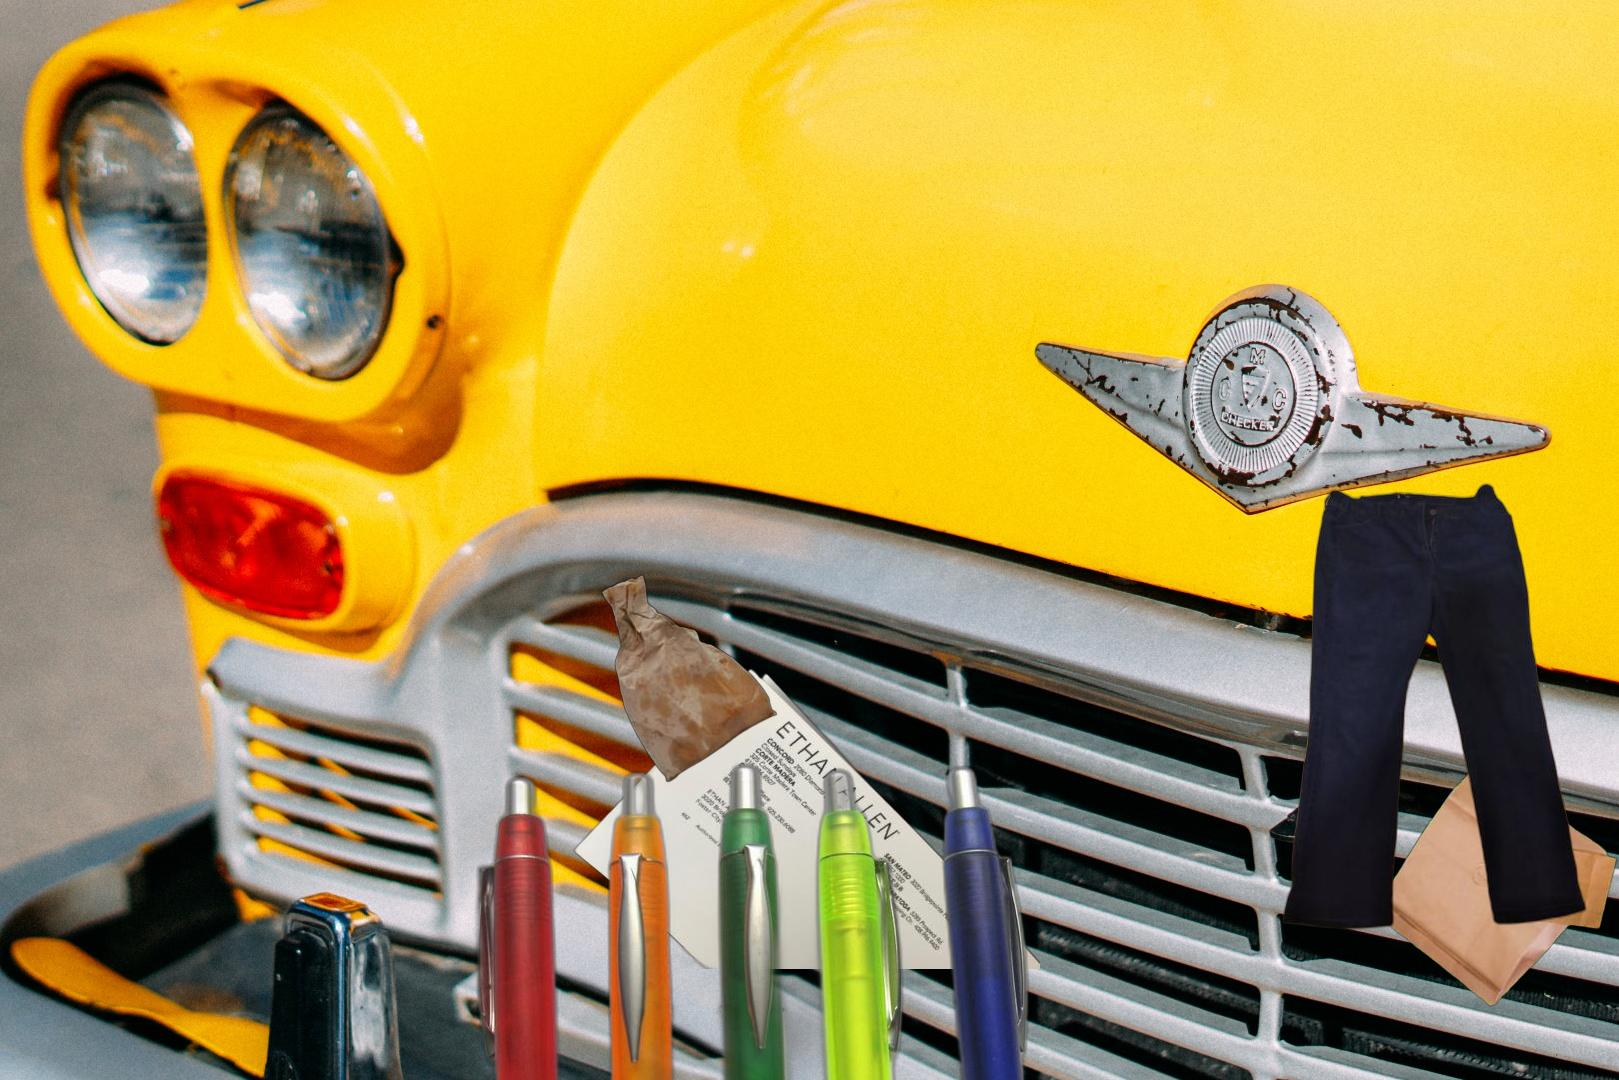clothes: (1279, 479, 1590, 933)
paper: (569, 665, 1040, 969)
paper-bag: (1369, 761, 1619, 1008), (598, 571, 780, 785)
penholder: (470, 757, 1045, 1080)
